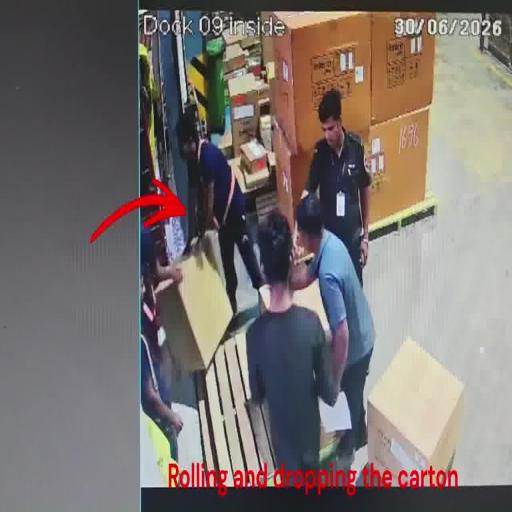carton: (368, 340, 466, 490), (272, 16, 372, 157), (154, 252, 235, 374), (363, 107, 431, 225), (370, 12, 436, 127), (271, 124, 309, 238), (230, 93, 262, 157), (230, 152, 272, 191), (240, 138, 268, 175)
pallet: (196, 314, 276, 488), (368, 199, 439, 242)
person: (246, 209, 341, 492), (288, 189, 375, 477), (176, 117, 263, 317), (294, 90, 372, 288), (142, 222, 184, 464)
